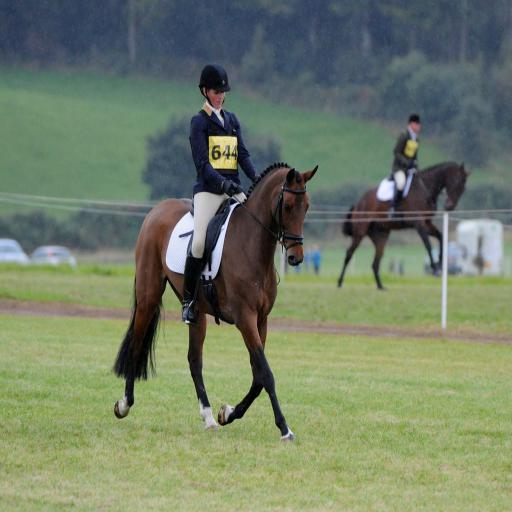Horse: (108, 162, 320, 442), (337, 160, 472, 292)
